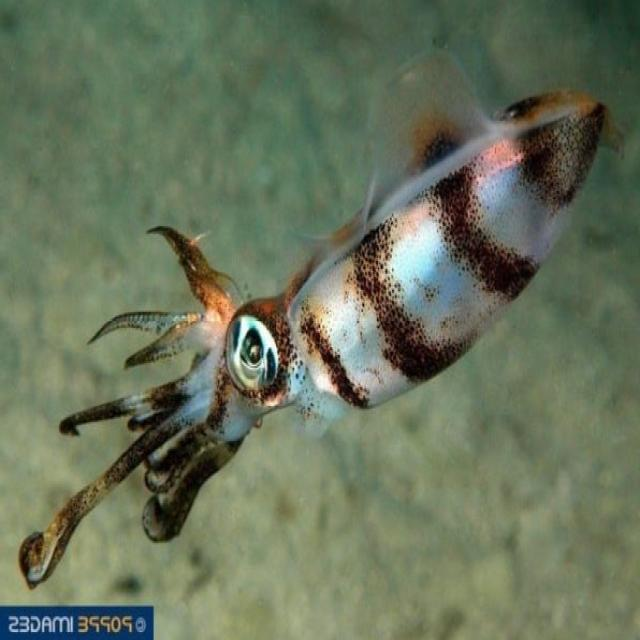SQUID: (16, 61, 628, 598)
